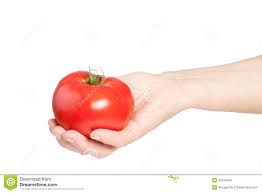tomato: (52, 70, 135, 138)
